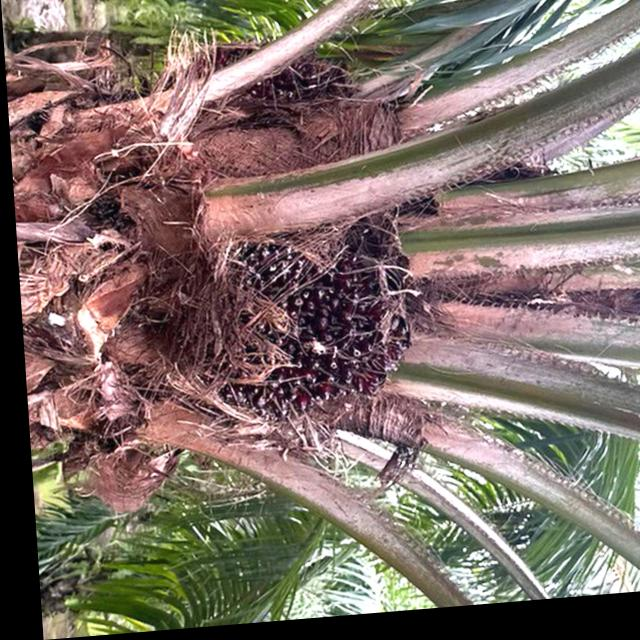ripe: (218, 222, 421, 438)
